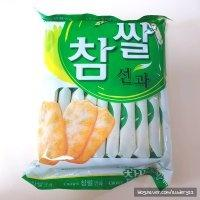snack: (20, 6, 174, 190)
